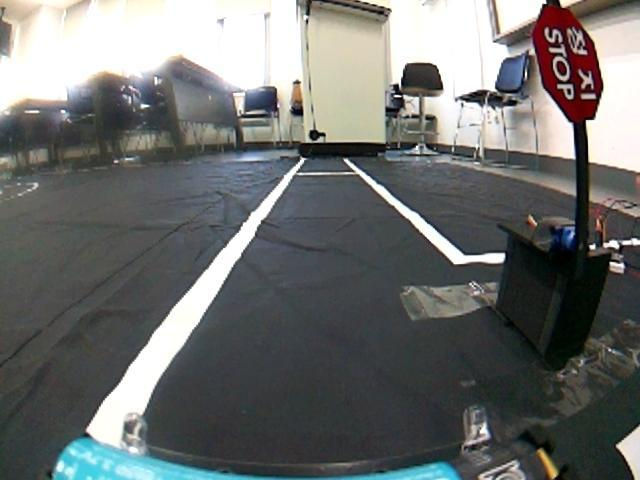sign_stop: (523, 0, 619, 126)
straight: (66, 175, 479, 461)
